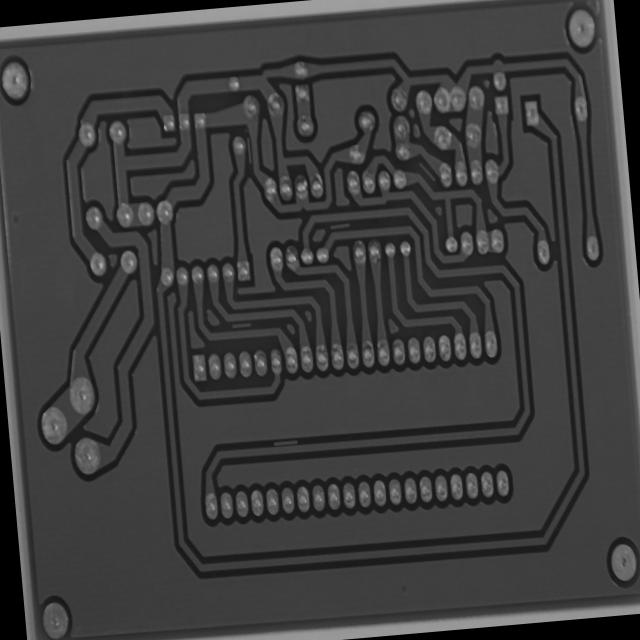spurious_copper: (224, 313, 256, 337), (268, 434, 302, 453), (416, 156, 437, 186), (240, 133, 258, 166), (326, 215, 352, 235)
